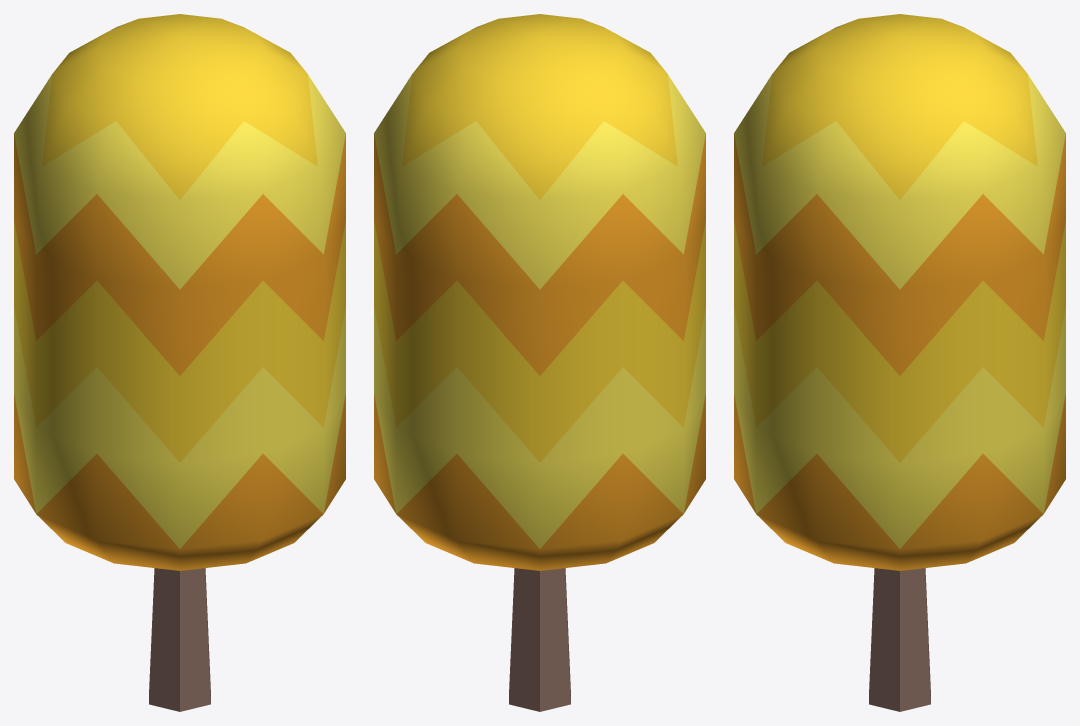
File: fantasy_plant_050.fbx
3 renders of one model, left to right at view 1: azimuth 30°, elevation 25°; view 2: azimuth 150°, elevation 25°; view 3: azimuth 270°, elevation 25°, orthographic.
Visible parts, largest first — view 1: fantasy_plant.050; view 2: fantasy_plant.050; view 3: fantasy_plant.050.
Part boxes in pixels (x1,y1,x2,y2): fantasy_plant.050: (14,14,345,711); fantasy_plant.050: (374,14,705,711); fantasy_plant.050: (734,14,1065,711).
Bounding box in the file's own units: 301 × 661 × 301.
1 material, 1 textured.
